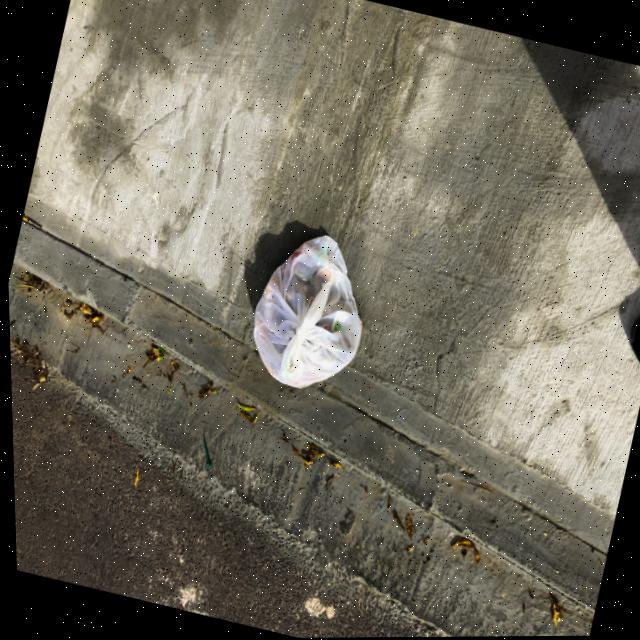Organic Waste -White Bag-: (225, 209, 391, 409)
